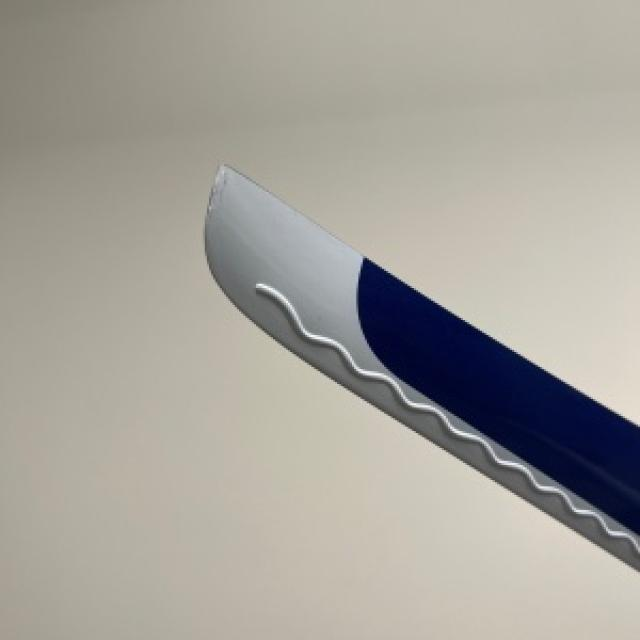healthy: (203, 164, 638, 567)
